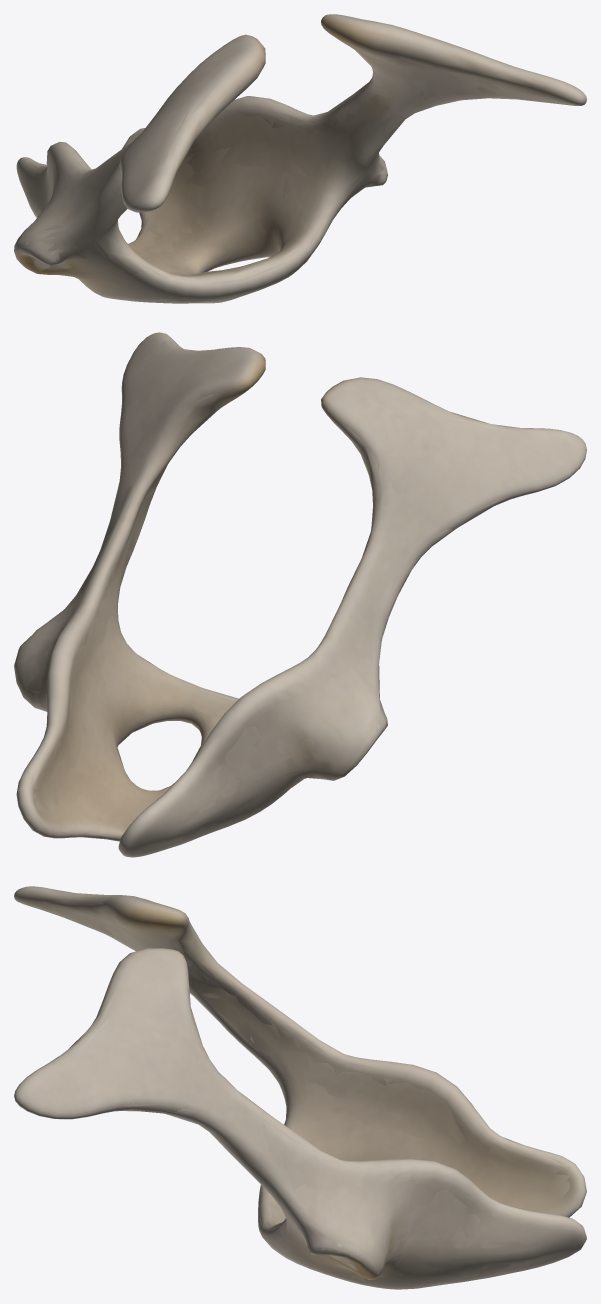
File: Coxae.fbx
3 views of the same model, one above another, from view 1: azimuth 30°, elevation 25°; view 2: azimuth 150°, elevation 25°; view 3: azimuth 270°, elevation 25° (orthographic). The views are drawn at different scales.
Parts seen in each view (by area): view 1: Coxae, Coxae low, Coxae high; view 2: Coxae, Coxae low, Coxae high; view 3: Coxae, Coxae low, Coxae high.
Boxes of the visible parts, bbox=[...] form: Coxae: bbox=[14, 14, 586, 303]; Coxae low: bbox=[21, 34, 561, 302]; Coxae high: bbox=[16, 17, 582, 303]; Coxae: bbox=[14, 332, 586, 857]; Coxae low: bbox=[27, 339, 544, 845]; Coxae high: bbox=[16, 334, 585, 855]; Coxae: bbox=[14, 886, 586, 1289]; Coxae low: bbox=[37, 889, 570, 1285]; Coxae high: bbox=[22, 888, 580, 1288].
Bounding box in the file's own units: 16.47 × 12.52 × 18.76.
Materials: 1 (1 with a texture image).
